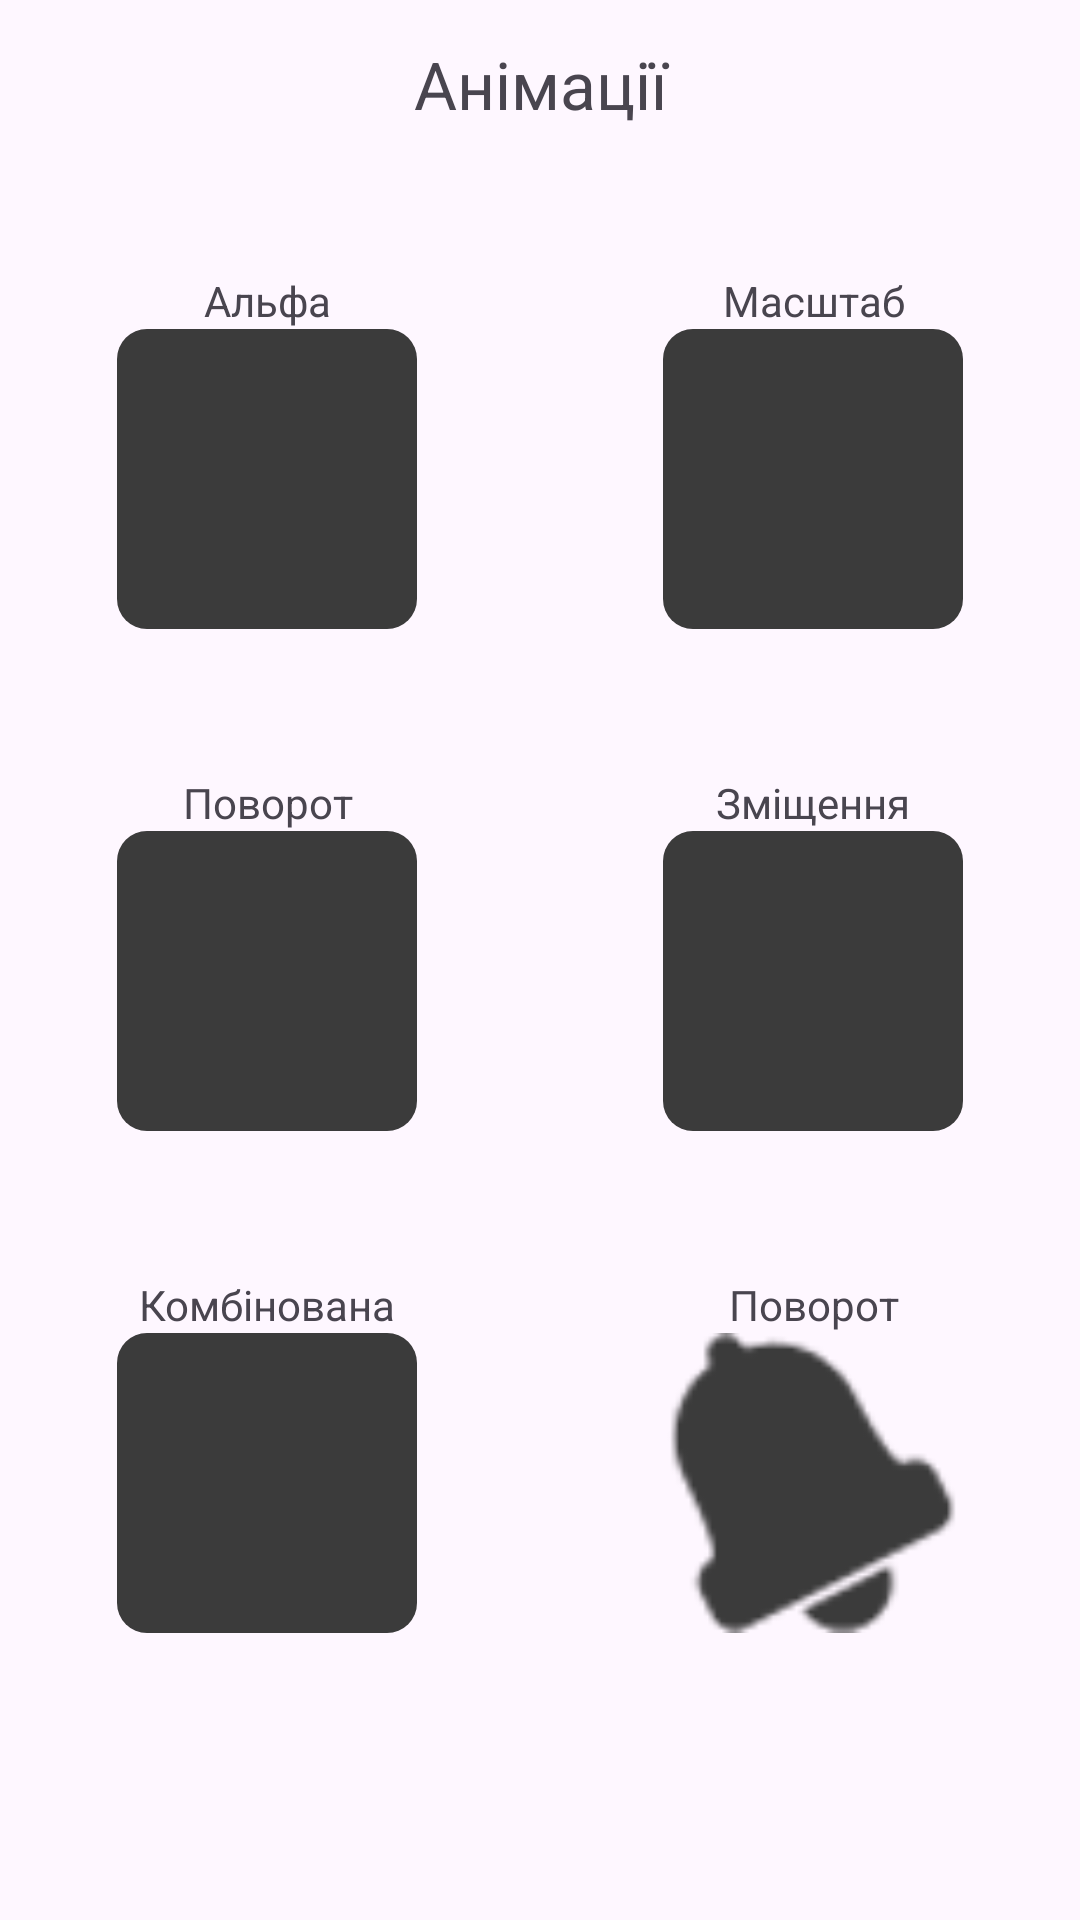

Screen size 1080*1920. Icon name, then its box in pixels as (x1, y1, x2, y2):
popup reminder: (671, 1333, 955, 1633)
